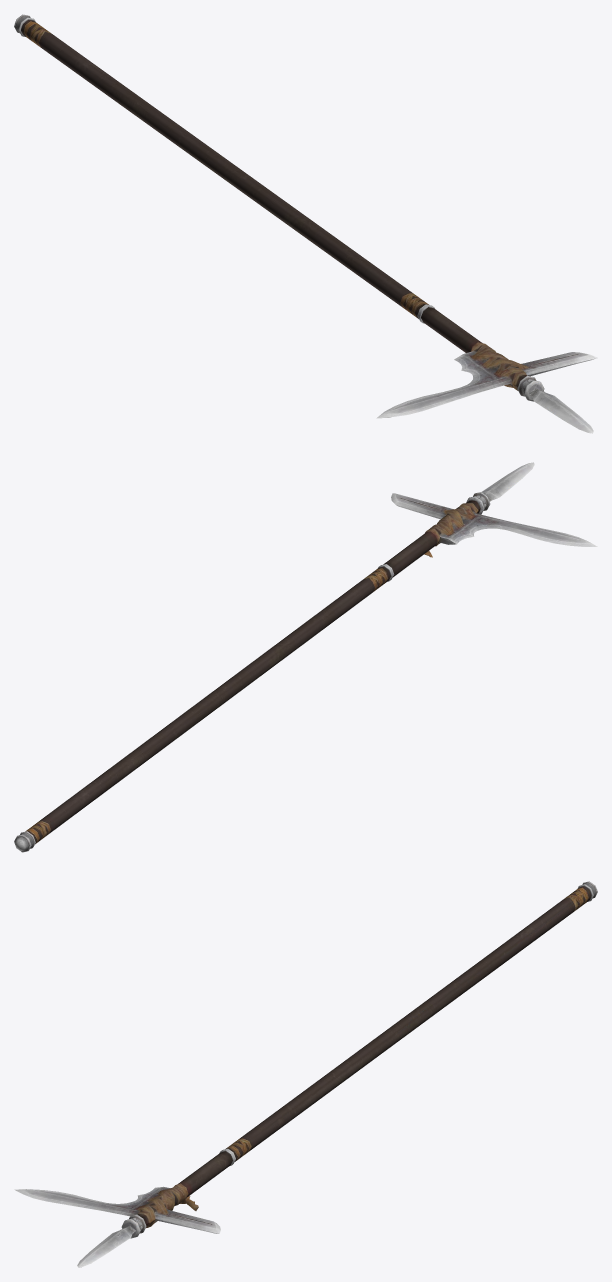
Rendered from halberd.glb.
The picture shows the model from 3 angles, top to bottom: view 1: azimuth 30°, elevation 25°; view 2: azimuth 150°, elevation 25°; view 3: azimuth 330°, elevation 25°; orthographic projection. The views are drawn at different scales.
Parts seen in each view (by area): view 1: polearm-200; view 2: polearm-200; view 3: polearm-200.
Part boxes in pixels (box(x1,y1,x2,y2)): polearm-200: box(14, 14, 597, 433); polearm-200: box(14, 462, 597, 852); polearm-200: box(14, 881, 597, 1267).
Size of the model in its own units: 0.4082 by 0.0564 by 1.8.
1 material, 1 textured.
